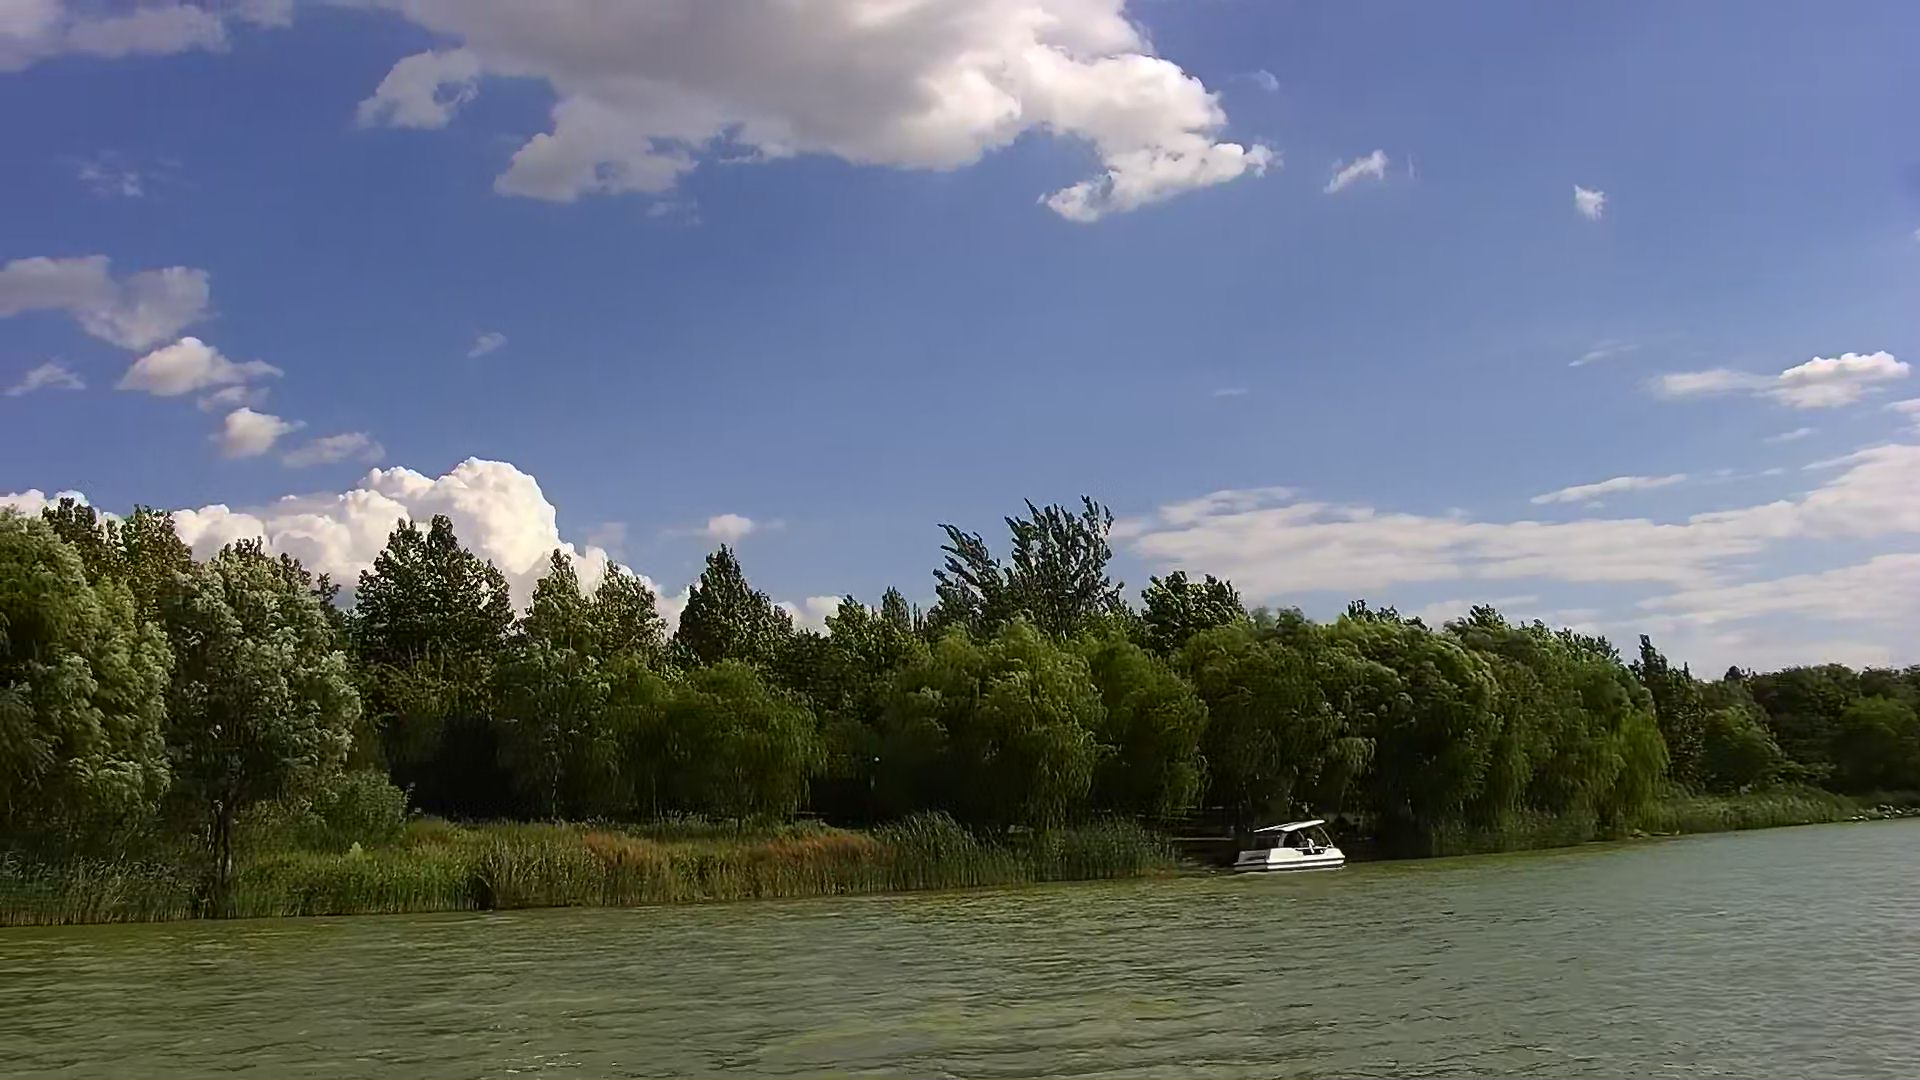boat: (1233, 818, 1348, 868)
